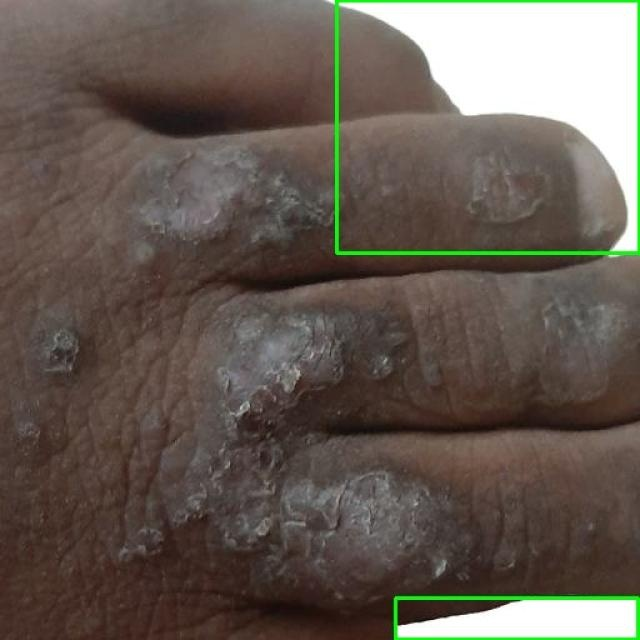Contact Dermatitis: (336, 0, 639, 252), (396, 598, 639, 639)
